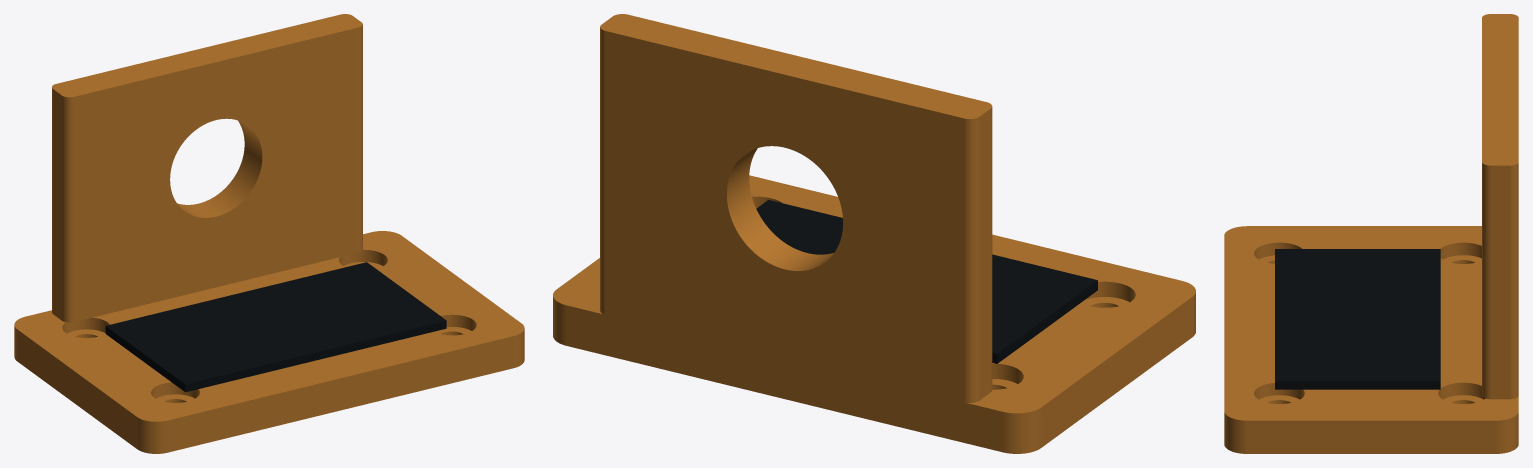
File: baseline.glb
3 renders of one model, left to right at view 1: azimuth 30°, elevation 25°; view 2: azimuth 150°, elevation 25°; view 3: azimuth 270°, elevation 25°, orthographic. The views are drawn at different scales.
Parts seen in each view (by area): view 1: MachinedBracket, IsolationPad; view 2: MachinedBracket, IsolationPad; view 3: MachinedBracket, IsolationPad.
Part boxes in pixels (box(x1,y1,x2,y2)): MachinedBracket: box(14, 14, 524, 453); IsolationPad: box(105, 262, 446, 392); MachinedBracket: box(553, 14, 1195, 453); IsolationPad: box(756, 200, 1097, 363); MachinedBracket: box(1224, 14, 1518, 453); IsolationPad: box(1275, 249, 1440, 389).
Bounding box in the file's own units: 0.1 × 0.064 × 0.064.
